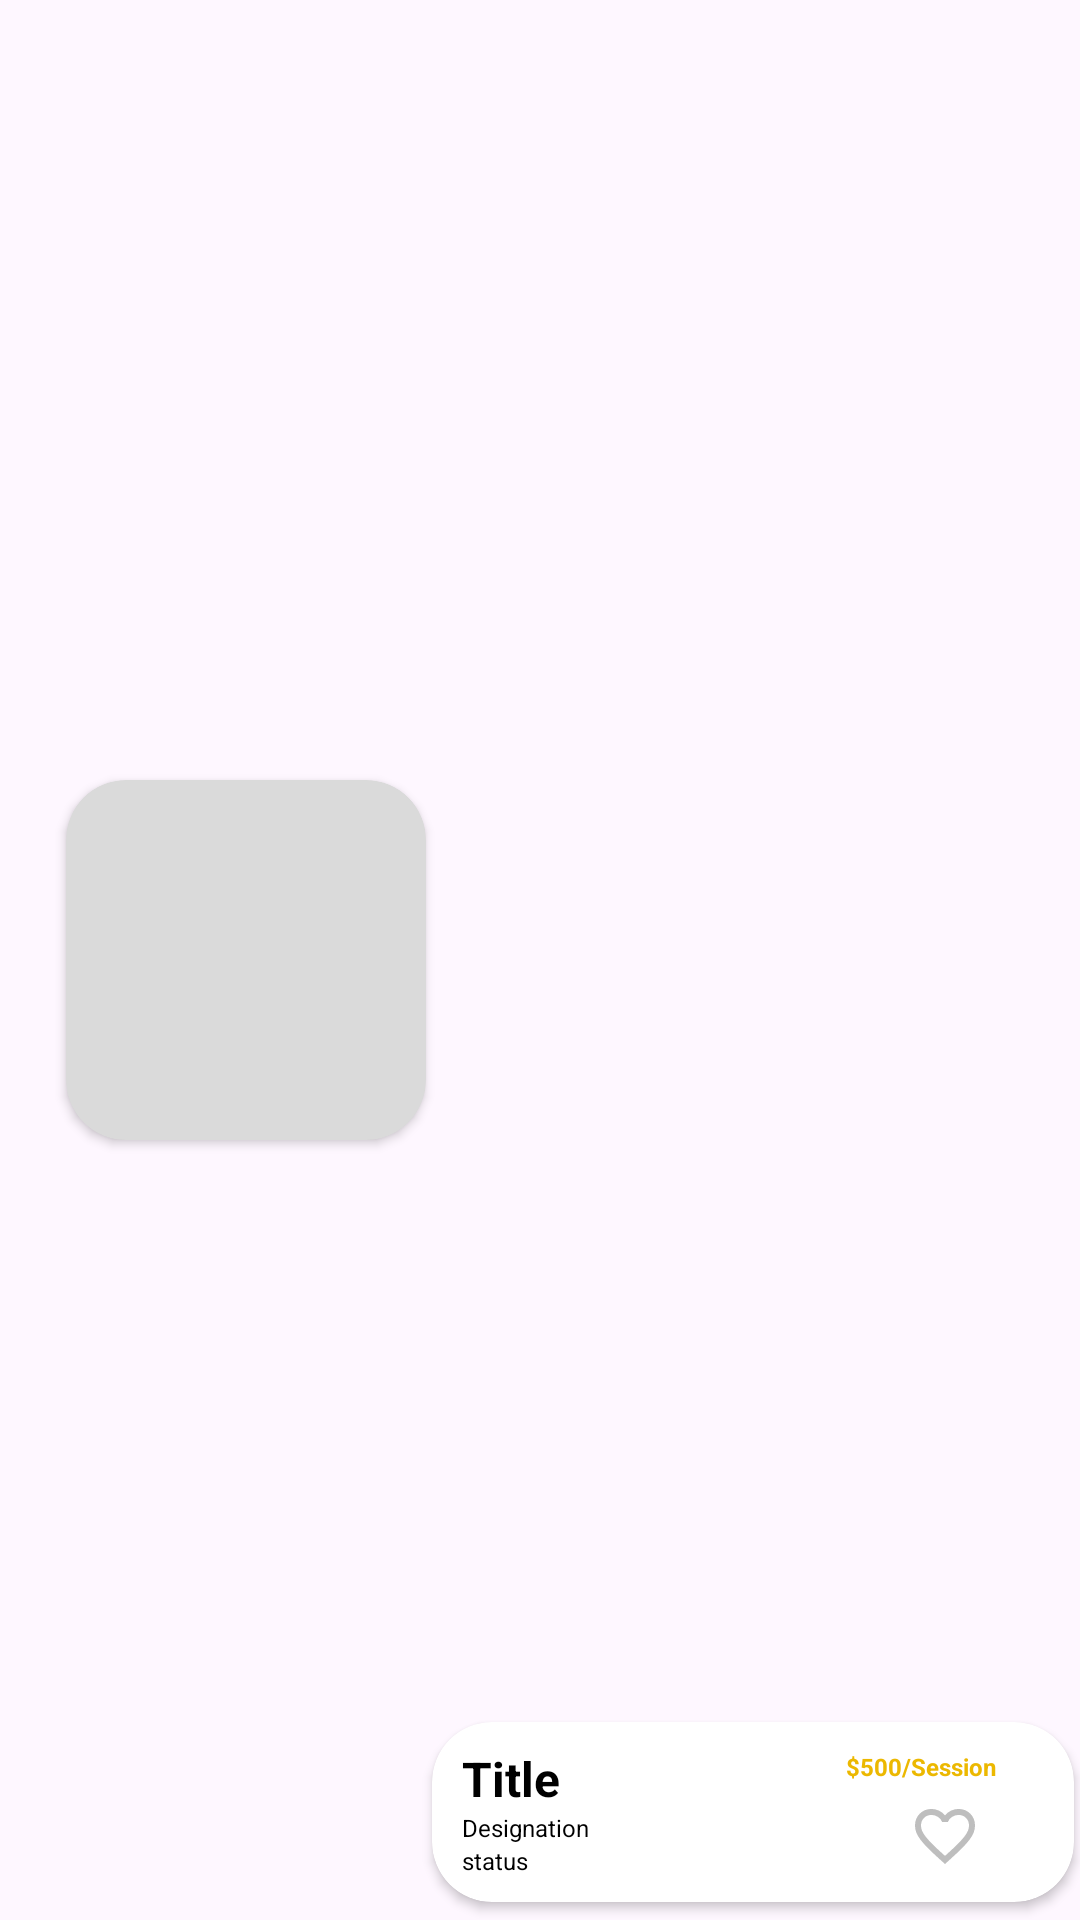

Screen size 1080x1920. Icon name, then its center in pixels as point (x, y):
heart unfilled: point (945, 1836)
